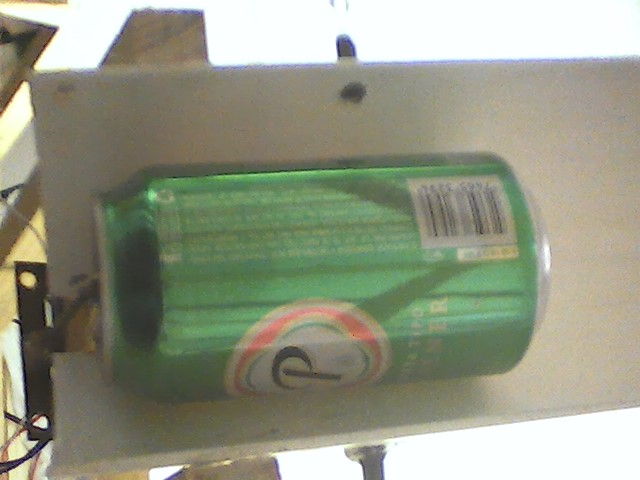lata: (91, 149, 560, 410)
